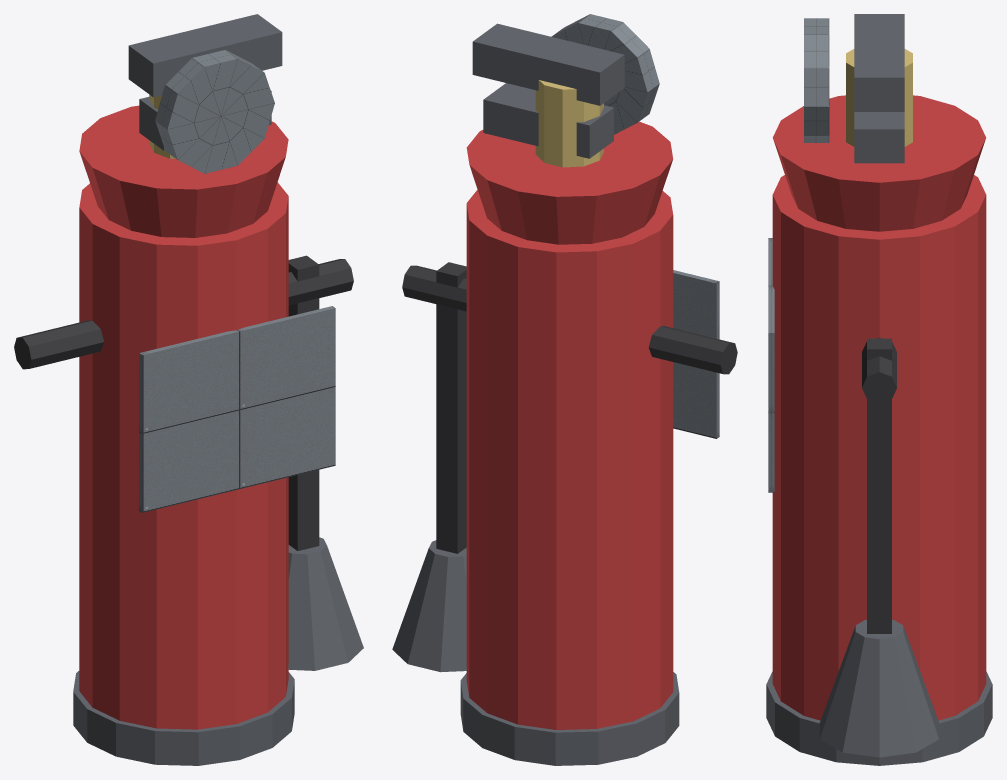
File: fire-and-emergency-services-fire-extinguisher-3b898007__29910.glb
3 views of the same model, side by side, from view 1: azimuth 30°, elevation 25°; view 2: azimuth 150°, elevation 25°; view 3: azimuth 270°, elevation 25° (orthographic). The views are drawn at different scales.
Parts seen in each view (by area): view 1: fire-extinguisher; view 2: fire-extinguisher; view 3: fire-extinguisher.
Part boxes in pixels (left/top/right/bottom): fire-extinguisher: left=14, top=14, right=363, bottom=765; fire-extinguisher: left=392, top=14, right=737, bottom=765; fire-extinguisher: left=766, top=14, right=992, bottom=765.
Bounding box in the file's own units: 0.31 × 0.6076 × 0.18.
5 materials, 1 textured.
